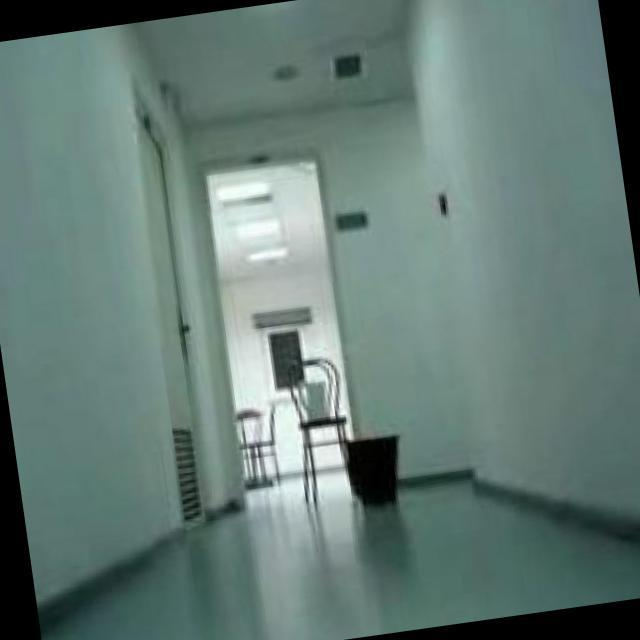Fire: (364, 432, 370, 443)
